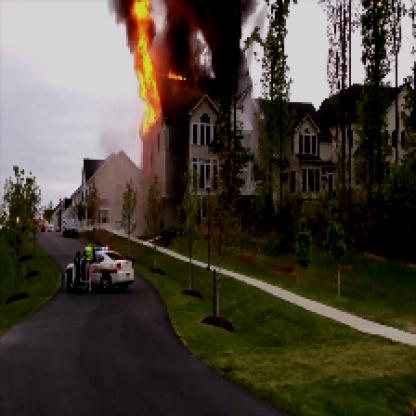Fire: (126, 2, 190, 128)
Smoke: (162, 2, 250, 91)
